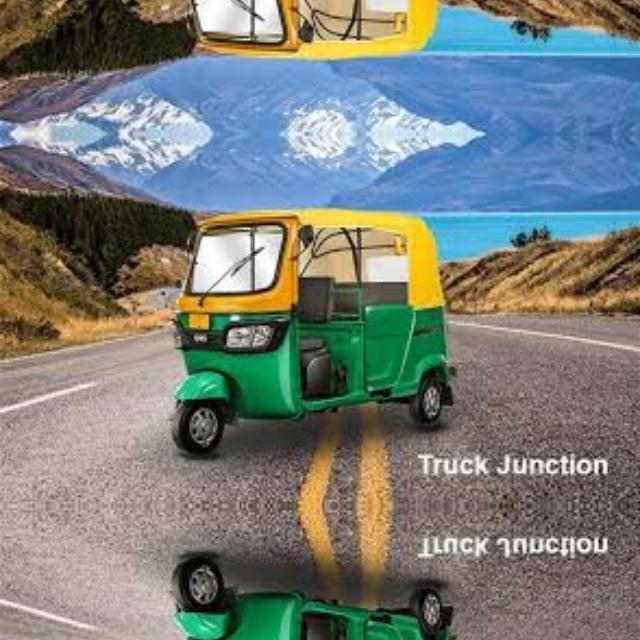person: (151, 176, 481, 474), (151, 537, 481, 640), (151, 0, 481, 90)
